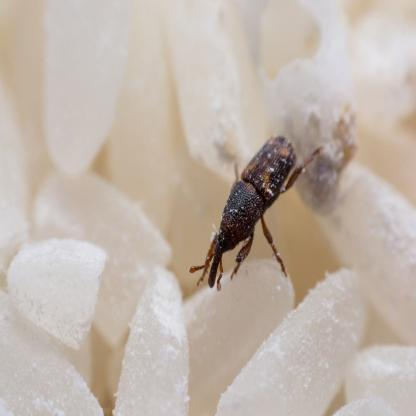rice-bug: (207, 128, 296, 286)
